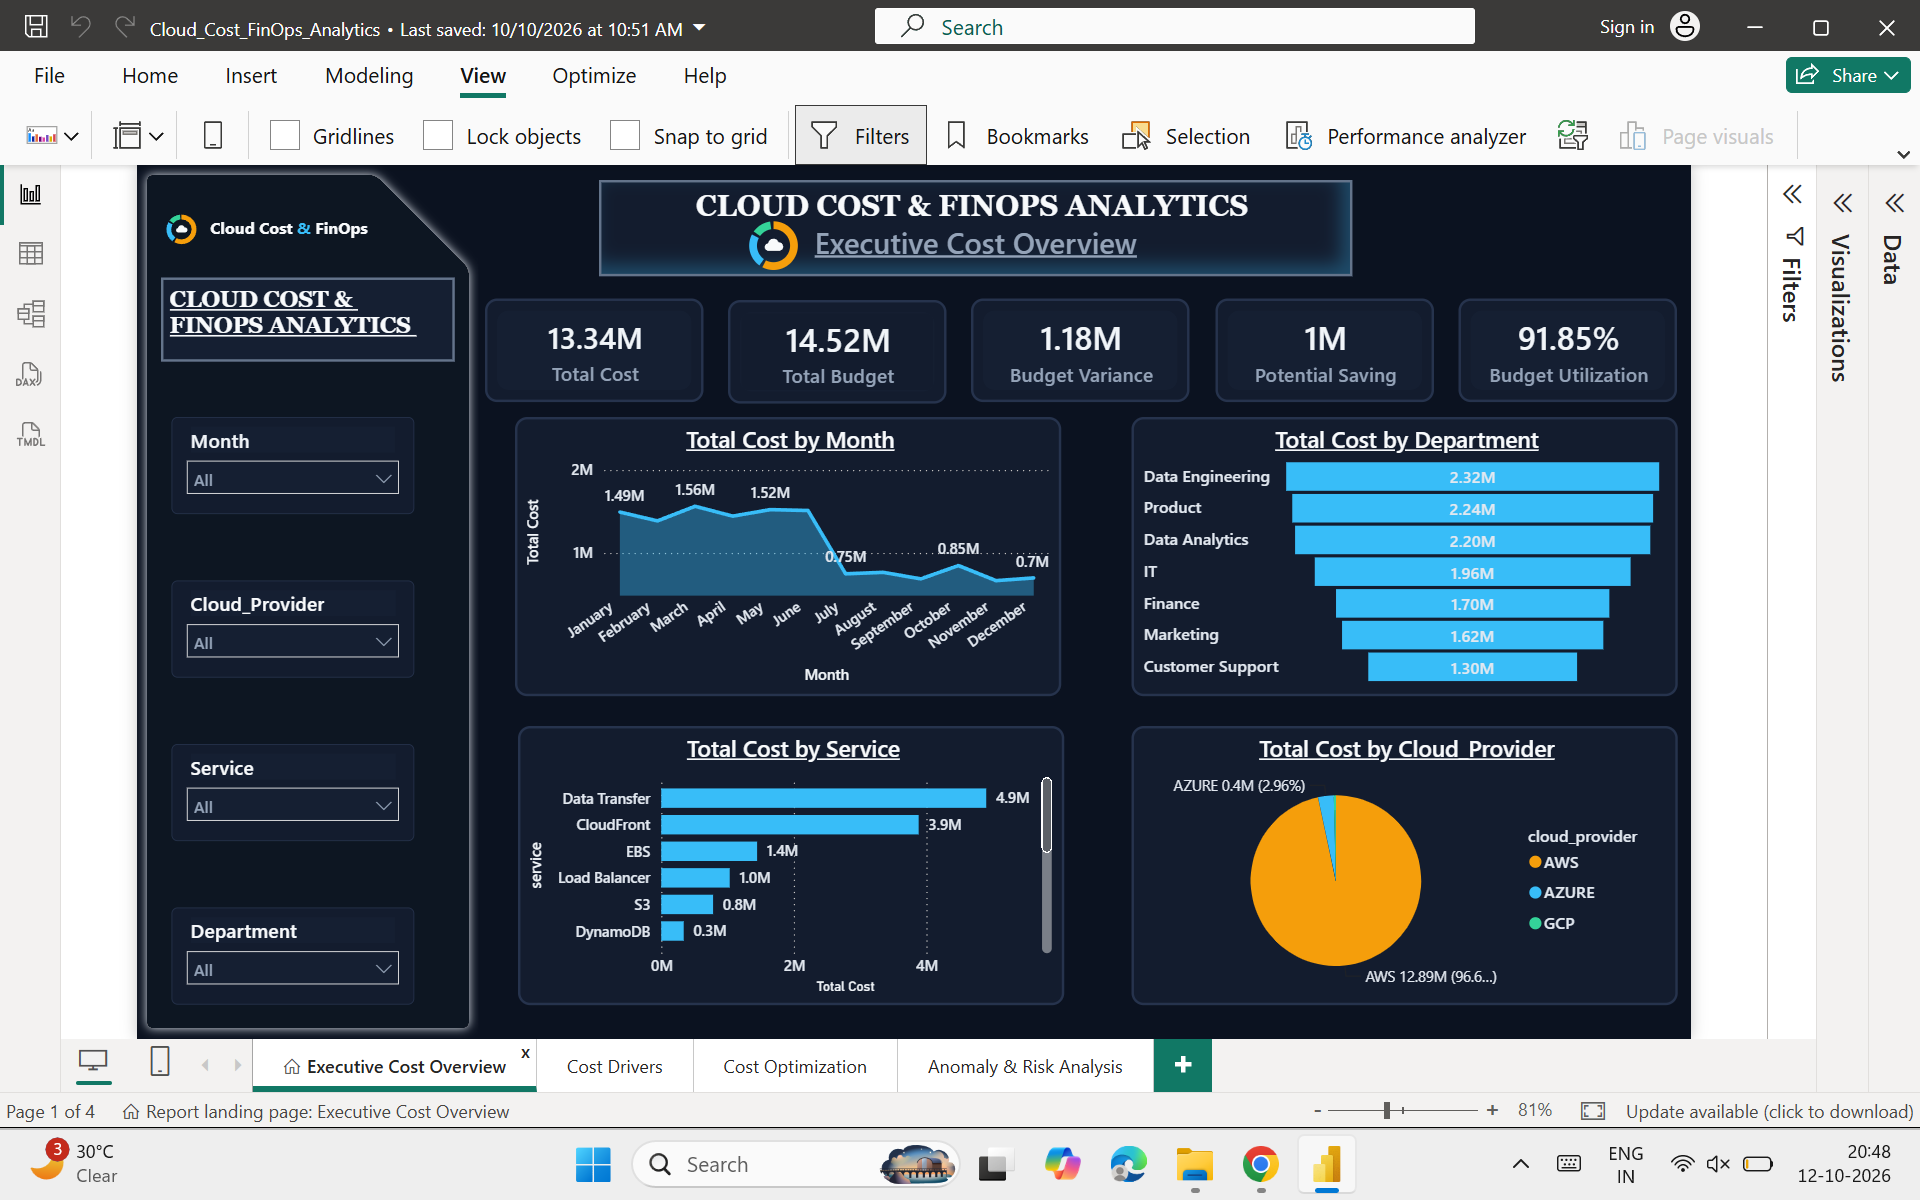

This screenshot's page, from the dashboard's own definition file:
{"tool":"powerbi","page":{"name":" Executive Cost Overview","canvas":[1280,720],"ordinal":0},"visuals":[{"type":"cardVisual","fields":{"Data":["measures (2).Total Cost"]},"box":[286.2,109.5,180,85],"z":0},{"type":"cardVisual","fields":{"Data":["measures (2).Total Budget"]},"box":[486.8,111.5,180,85],"z":1000},{"type":"cardVisual","fields":{"Data":["measures (2).Budget Utilization"]},"box":[1088.7,110,180,85],"z":2000},{"type":"cardVisual","fields":{"Data":["measures (2).Potential Saving"]},"box":[888.1,110,180,85],"z":3000},{"type":"cardVisual","fields":{"Data":["measures (2).Budget Variance"]},"box":[687.4,110,180,85],"z":4000},{"type":"areaChart","fields":{"Category":["cloud_cost_finops_cleaned.date.Variation.Date Hierarchy.Month"],"Y":["measures (2).Total Cost"]},"box":[311.9,207.4,449.7,230.2],"z":5000},{"type":"pieChart","title":"Total Cost by Cloud_Provider","fields":{"Y":["measures (2).Total Cost"],"Category":["cloud_cost_finops_cleaned.cloud_provider"]},"box":[819.2,461.8,449.7,230.2],"z":6000},{"type":"barChart","title":"Total Cost by Service","fields":{"Y":["measures (2).Total Cost"],"Category":["cloud_cost_finops_cleaned.service"]},"box":[313.4,461.8,449.7,230.2],"z":7000},{"type":"funnel","title":"Total Cost by Department","fields":{"Category":["cloud_cost_finops_cleaned.department"],"Y":["measures (2).Total Cost"]},"box":[819.2,207.4,449.7,230.2],"z":8000},{"type":"textbox","box":[380.9,13,620.8,79.4],"z":9000},{"type":"shape","box":[0,0,281.6,719.2],"z":10000},{"type":"slicer","fields":{"Values":["cloud_cost_finops_cleaned.date.Variation.Date Hierarchy.Month"]},"box":[28.4,207.4,199.9,80.3],"z":11000},{"type":"slicer","fields":{"Values":["cloud_cost_finops_cleaned.cloud_provider"]},"box":[28.4,342.4,200,80],"z":12000},{"type":"slicer","fields":{"Values":["cloud_cost_finops_cleaned.service"]},"box":[28.4,477.1,200,80],"z":13000},{"type":"slicer","fields":{"Values":["cloud_cost_finops_cleaned.department"]},"box":[28.4,611.7,199.9,80.3],"z":14000},{"type":"textbox","box":[19.7,92.4,242.3,69.7],"z":15000},{"type":"image","box":[19.7,33.3,187.8,39.4],"z":16000},{"type":"image","box":[472.4,40.9,104.5,51.5],"z":17000}]}

Visuals, with their boxes on the page's 1280x720 design canvas (x1, y1, x2, y2). These are canvas units, not pixel positions in the 1920x1200 screenshot, which may show the page scaled, cropped or inside an application window:
cardVisual - measures (2).Total Cost: select_region(286, 110, 466, 194)
cardVisual - measures (2).Total Budget: select_region(487, 112, 667, 196)
cardVisual - measures (2).Budget Utilization: select_region(1089, 110, 1269, 195)
cardVisual - measures (2).Potential Saving: select_region(888, 110, 1068, 195)
cardVisual - measures (2).Budget Variance: select_region(687, 110, 867, 195)
areaChart - cloud_cost_finops_cleaned.date.Variation.Date Hierarchy.Month x measures (2).Total Cost: select_region(312, 207, 762, 438)
"Total Cost by Cloud_Provider" pieChart: select_region(819, 462, 1269, 692)
"Total Cost by Service" barChart: select_region(313, 462, 763, 692)
"Total Cost by Department" funnel: select_region(819, 207, 1269, 438)
textbox: select_region(381, 13, 1002, 92)
shape: select_region(0, 0, 282, 719)
slicer - cloud_cost_finops_cleaned.date.Variation.Date Hierarchy.Month: select_region(28, 207, 228, 288)
slicer - cloud_cost_finops_cleaned.cloud_provider: select_region(28, 342, 228, 422)
slicer - cloud_cost_finops_cleaned.service: select_region(28, 477, 228, 557)
slicer - cloud_cost_finops_cleaned.department: select_region(28, 612, 228, 692)
textbox: select_region(20, 92, 262, 162)
image: select_region(20, 33, 208, 73)
image: select_region(472, 41, 577, 92)
